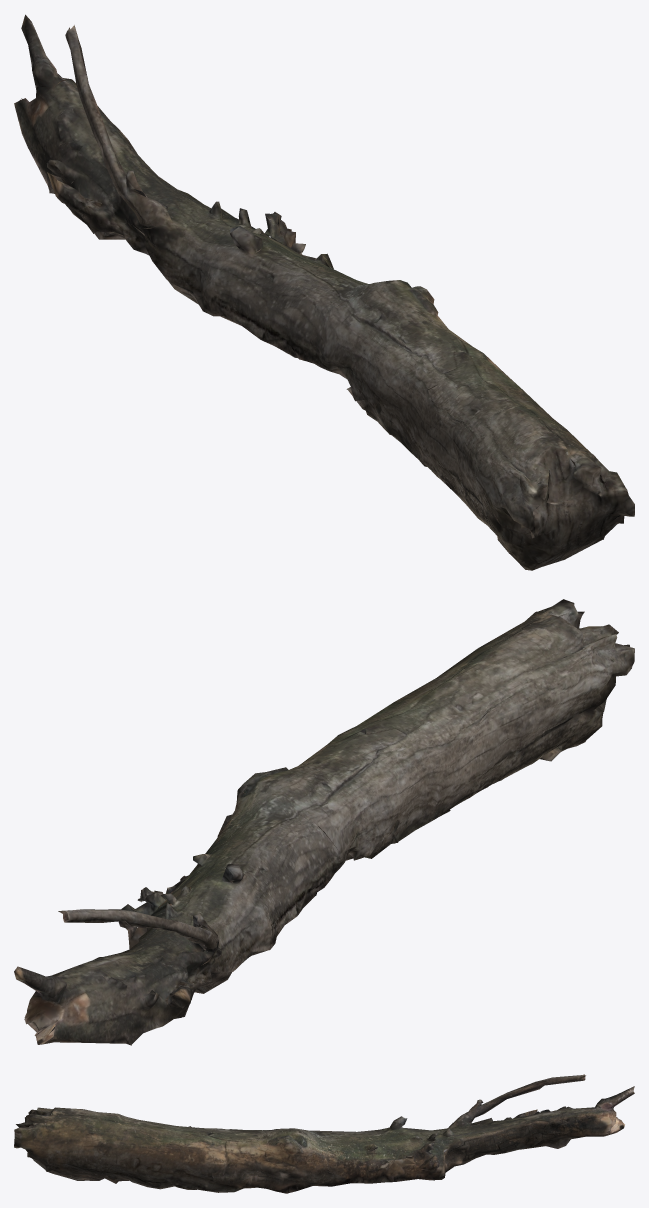
Rendered from dry_branches_medium_01_c.glb.
3 views of the same model, one above another, from view 1: azimuth 30°, elevation 25°; view 2: azimuth 150°, elevation 25°; view 3: azimuth 270°, elevation 25° (orthographic). The views are drawn at different scales.
Parts seen in each view (by area): view 1: dry_branches_medium_01_c; view 2: dry_branches_medium_01_c; view 3: dry_branches_medium_01_c.
Part boxes in pixels (box(x1,y1,x2,y2)): dry_branches_medium_01_c: box(14, 14, 634, 570); dry_branches_medium_01_c: box(14, 599, 634, 1045); dry_branches_medium_01_c: box(14, 1074, 634, 1193).
Bounding box in the file's own units: 0.1294 × 0.143 × 0.7771.
1 material, 1 textured.
